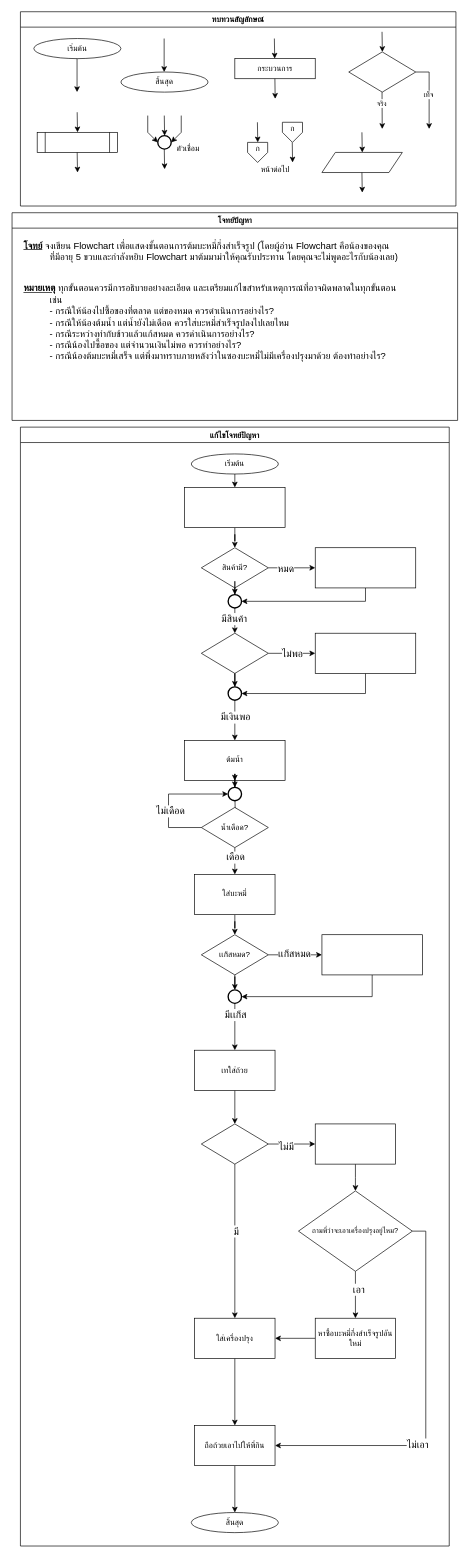
This 469x1558 diagram has some shape labels left out. The shapes that lost their labels are listed below. From the top down, each one's centre as x and y in pixels, then its label:
At point (382, 71): "ประโยคเงื่อนไข".
At point (77, 142): "ฟังก์ชัน/โมดูล".
At point (361, 162): "แสดงผล/รับค่า".
At point (234, 507): "ซื้อบะหมี่กึ่งสำเร็จรูป".
At point (365, 567): "ซื้อร้านอื่น/ซื้อเซเว่น".
At point (234, 653): "เงินพอไหม?".
At point (365, 653): "กลับไปเอาเงินที่บ้าน".
At point (371, 954): "บอกพี่ให้ไปเติมเเก็ส".
At point (234, 1143): "มีเครื่องปรุง?".
At point (355, 1143): "บอกพี่ให้เเจ้งทางบริษัทบะหมี่กึ่งสำเร็จรูปว่าไม่มีเครื่องปรุง".
